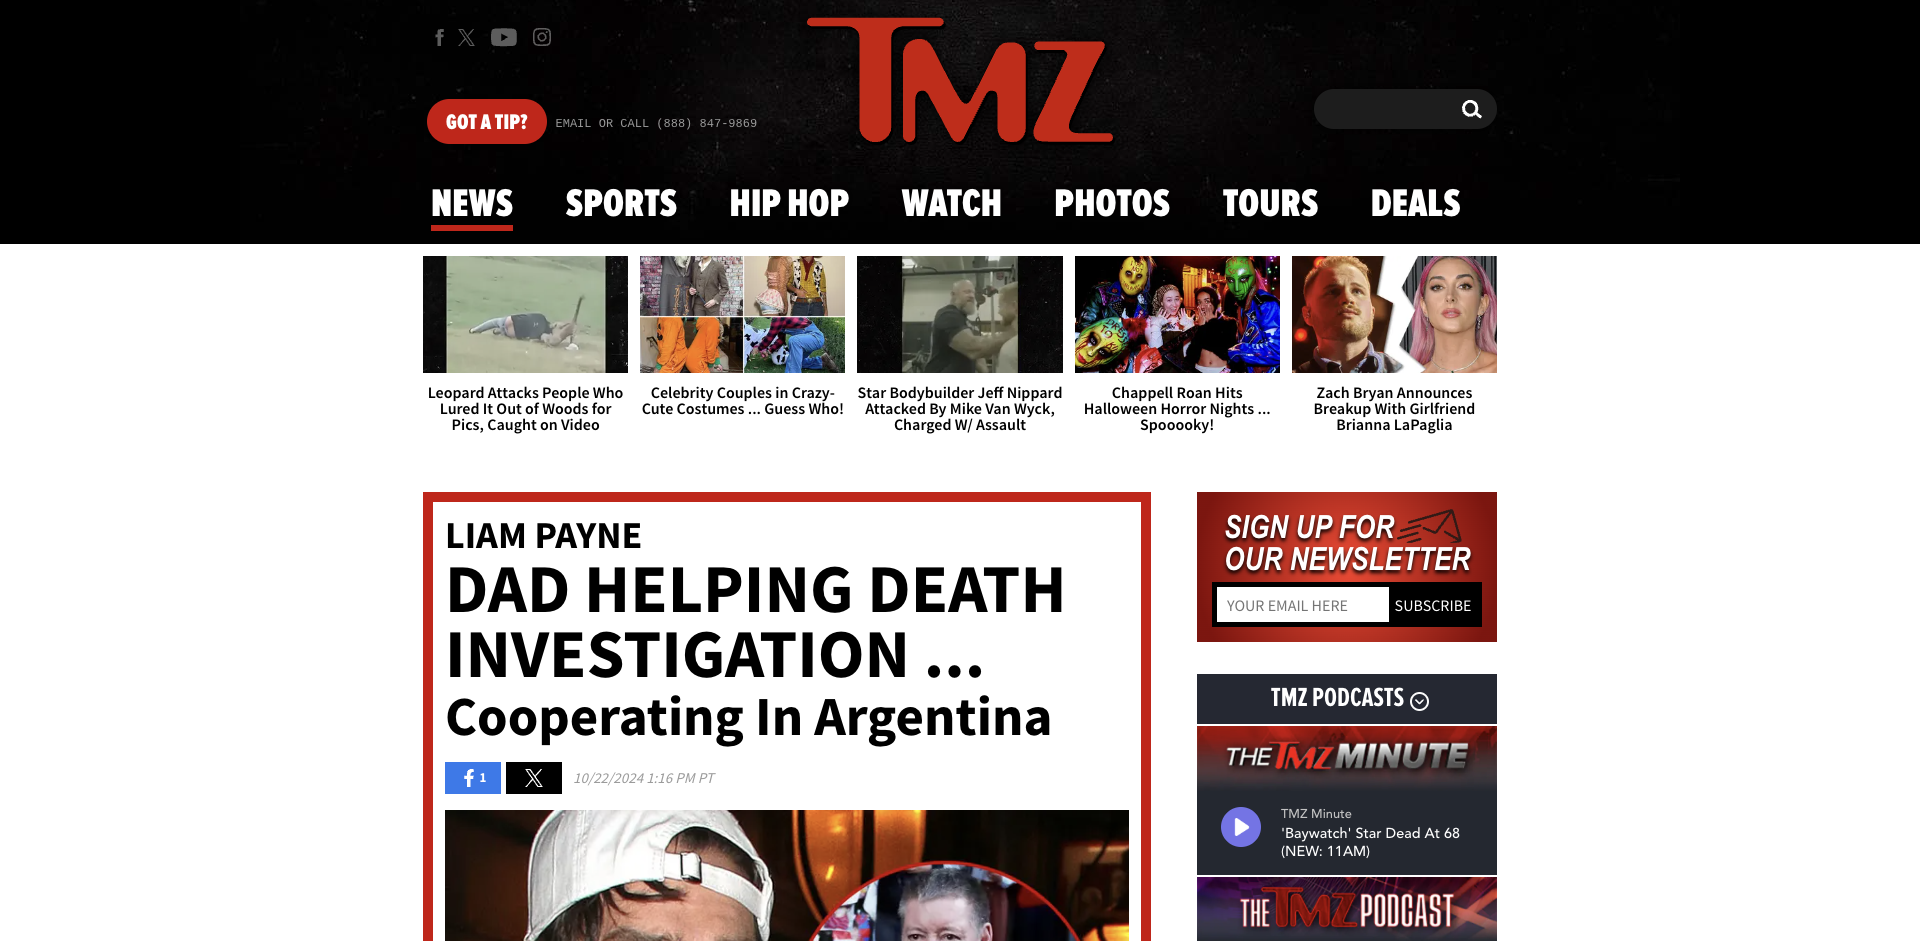button: (427, 99, 546, 145), (1389, 588, 1474, 622), (1447, 89, 1498, 129), (444, 762, 501, 794), (506, 762, 562, 794), (1187, 353, 1200, 366)
input: (1314, 89, 1498, 129), (1217, 587, 1389, 622)
label: (1216, 587, 1217, 587)
link: (444, 515, 1129, 747), (444, 810, 1129, 941), (807, 0, 1113, 164), (1198, 727, 1498, 875), (422, 256, 628, 448), (857, 256, 1063, 448), (1292, 256, 1498, 448), (1075, 256, 1280, 448), (640, 256, 845, 433), (768, 358, 1152, 426), (768, 436, 1152, 505), (768, 515, 1152, 583), (1198, 877, 1498, 941), (718, 164, 861, 244), (1042, 164, 1182, 244), (553, 164, 689, 244), (890, 164, 1014, 244), (1211, 164, 1330, 244), (1359, 164, 1473, 244), (419, 164, 525, 244), (1265, 680, 1411, 719), (556, 116, 757, 132), (482, 12, 525, 62), (525, 16, 560, 58), (422, 16, 456, 58), (456, 16, 482, 58)
